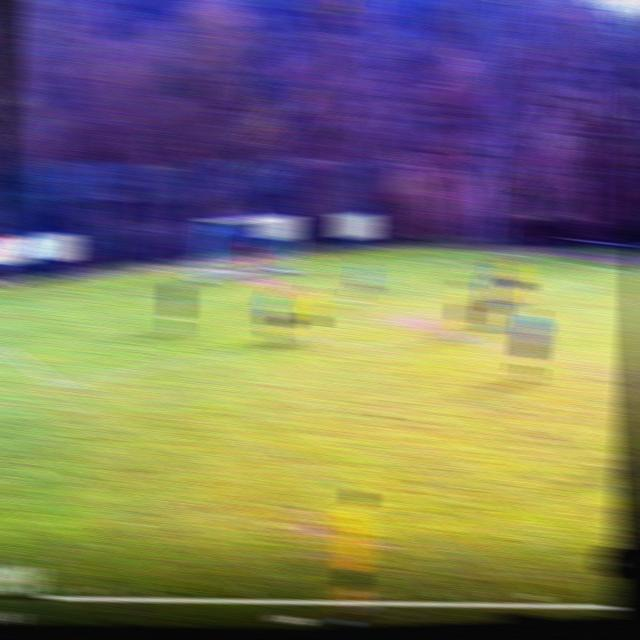bigarea_bottom_inner: (45, 369, 79, 406)
bigarea_top_inner: (580, 279, 610, 300)
bigarea_top_outter: (427, 252, 449, 266)
corner: (488, 249, 509, 259)
smallarea_bottom_outter: (126, 281, 153, 308)
smallarea_top_inner: (375, 270, 395, 286)
smallarea_top_outter: (331, 260, 353, 276)
